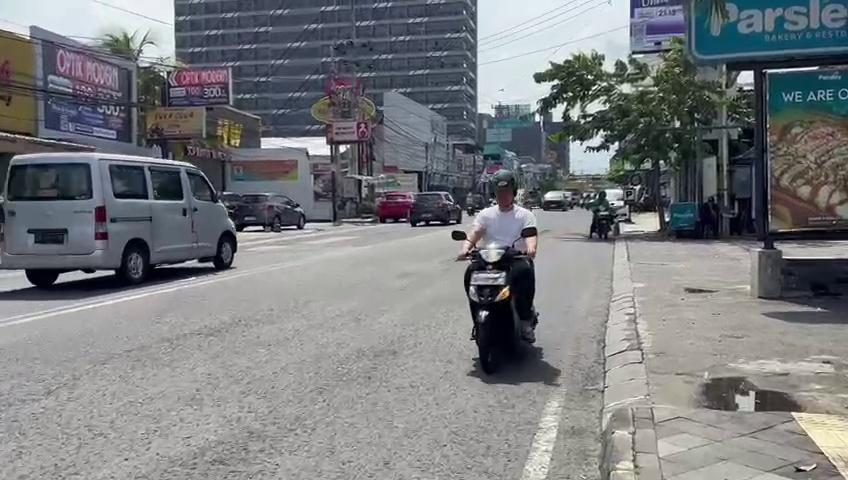helm: (487, 169, 521, 211)
riding: (445, 167, 551, 387)
